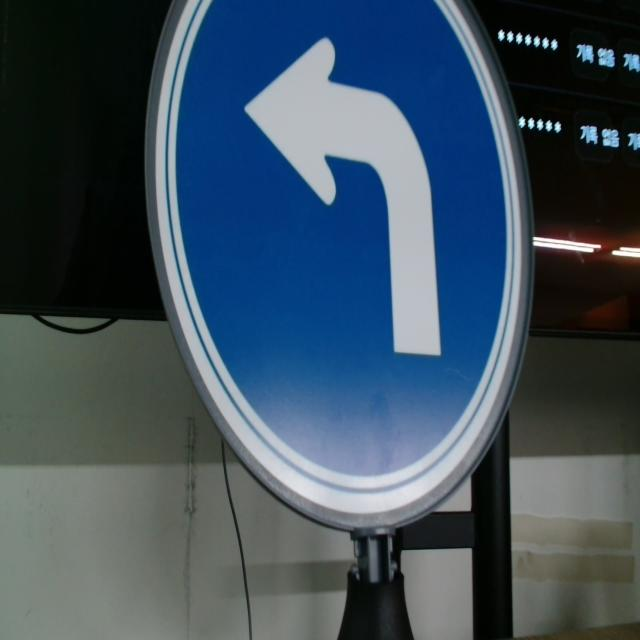left_direction: (142, 0, 537, 534)
